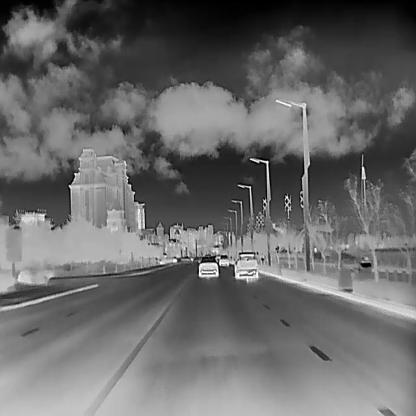car: (233, 250, 258, 278), (197, 254, 218, 276), (218, 252, 229, 266)
